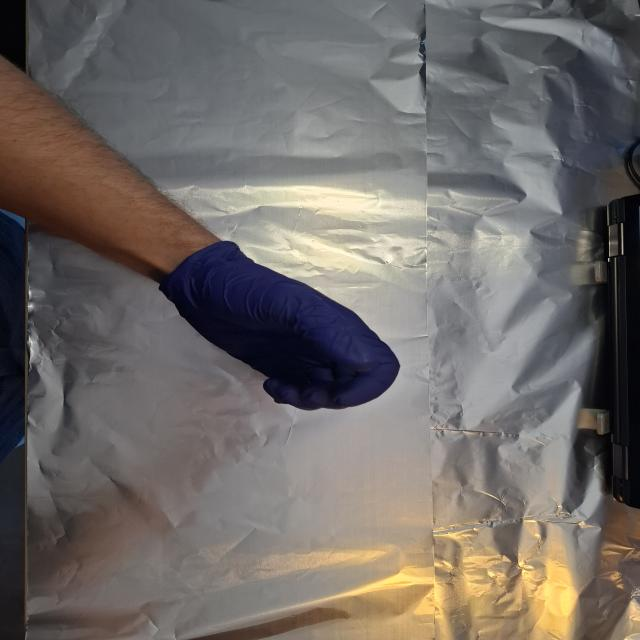glove_on: (158, 243, 404, 413)
